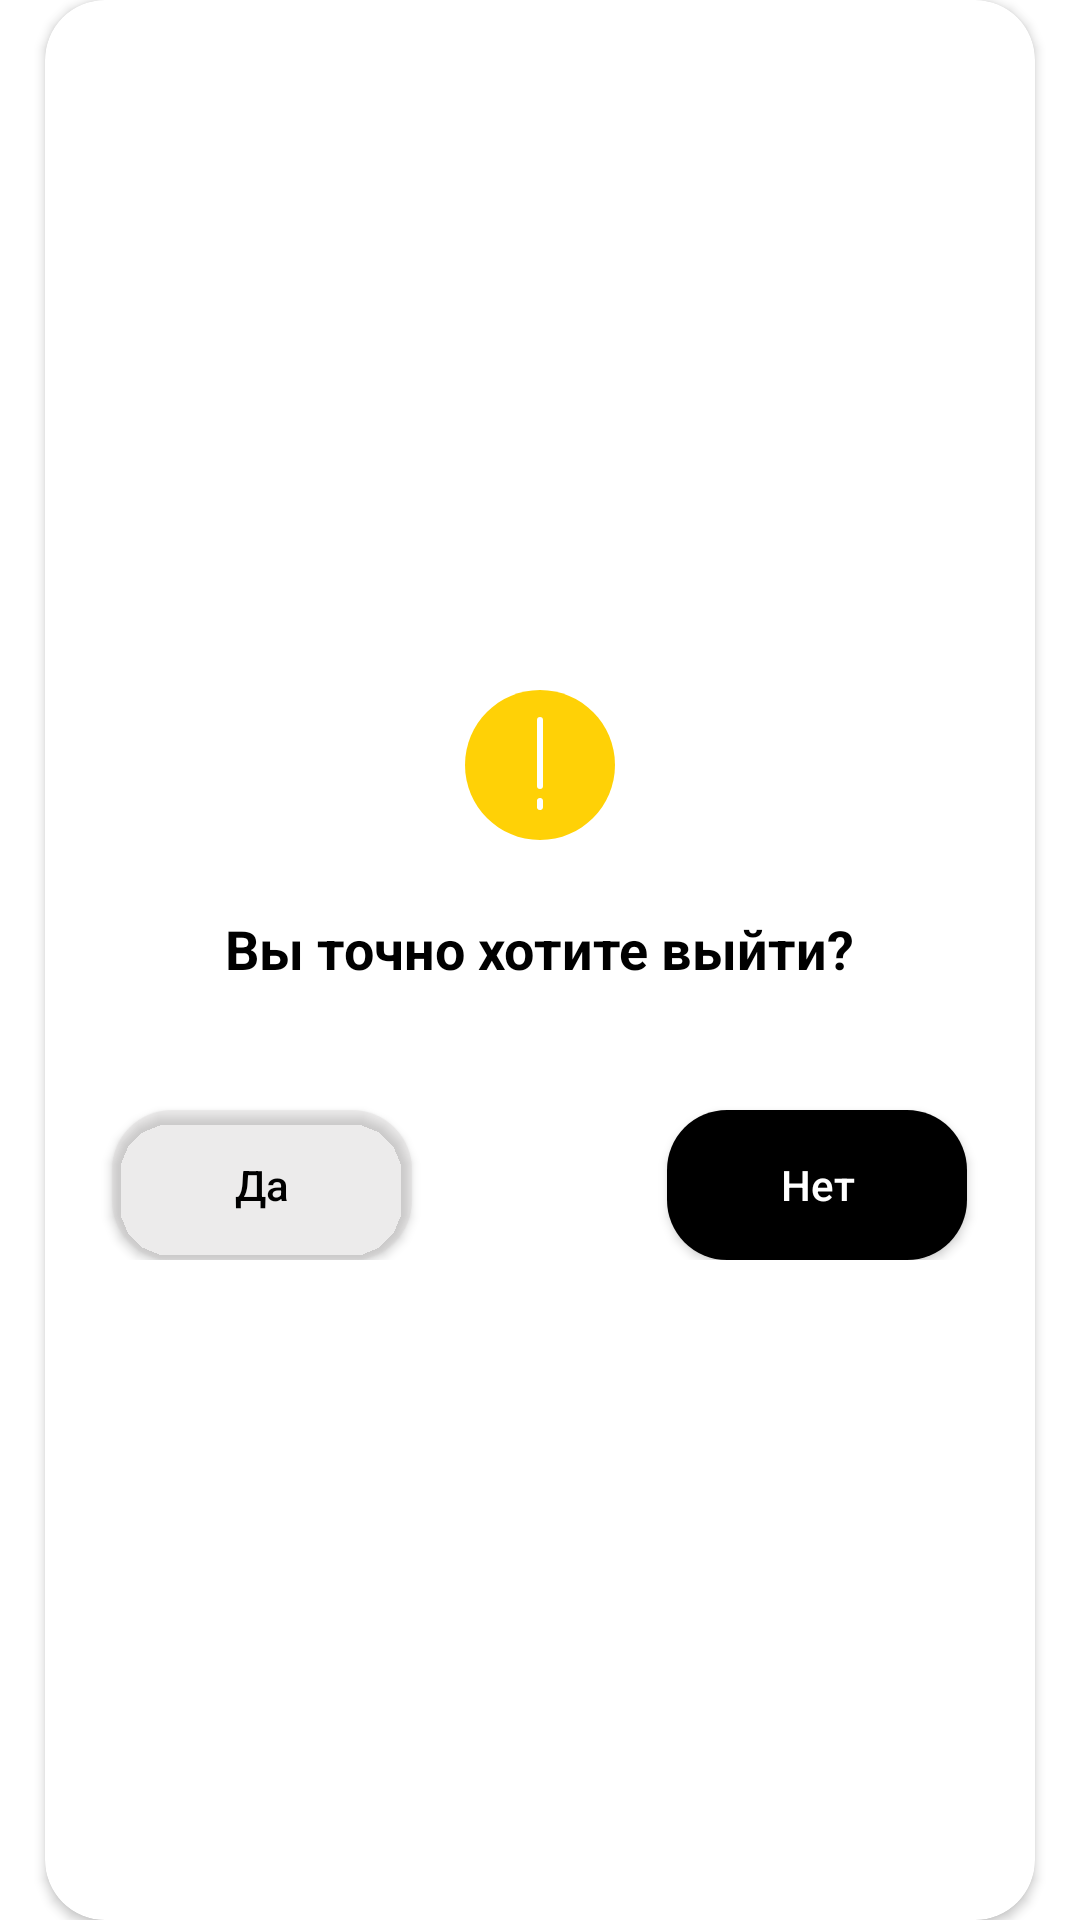

Icons on this 1080px×1920px Android screen, each with the point to tap as point (x, y):
warning: point (540, 765)
